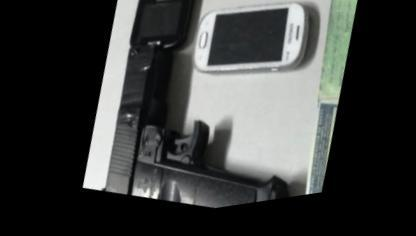pistol: (76, 18, 326, 224)
